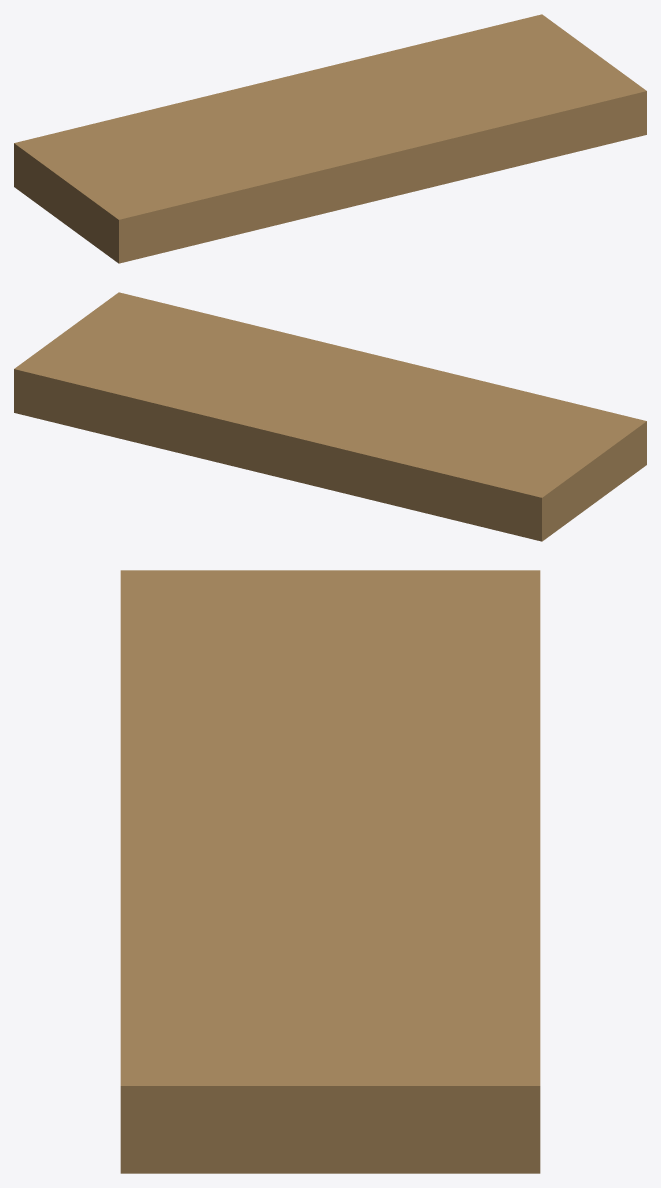
The picture shows the model from 3 angles, top to bottom: view 1: azimuth 30°, elevation 25°; view 2: azimuth 150°, elevation 25°; view 3: azimuth 270°, elevation 25°; orthographic projection. The views are drawn at different scales.
Parts seen in each view (by area): view 1: STAIR-B6-00; view 2: STAIR-B6-00; view 3: STAIR-B6-00.
Part boxes in pixels (x1=…): STAIR-B6-00: x1=14, y1=14, x2=646, y2=263; STAIR-B6-00: x1=14, y1=292, x2=646, y2=541; STAIR-B6-00: x1=120, y1=570, x2=540, y2=1173.
Bounding box in the file's own units: 0.82 × 0.065 × 0.282.
